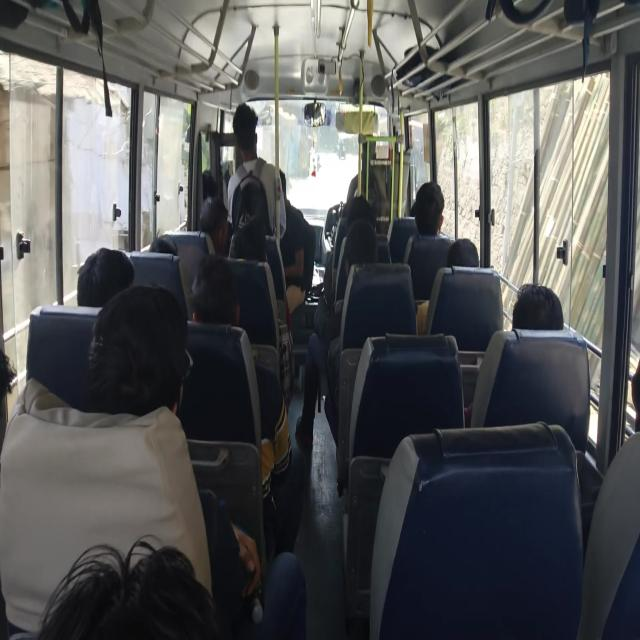person: (95, 293, 205, 441), (34, 550, 201, 640), (74, 235, 149, 326), (0, 347, 35, 512), (596, 348, 640, 442), (506, 285, 558, 355), (334, 194, 399, 249), (187, 273, 252, 325), (346, 225, 396, 281), (222, 110, 262, 176), (240, 226, 280, 292), (446, 231, 487, 281), (148, 224, 189, 268), (202, 196, 236, 249), (238, 193, 272, 240), (401, 182, 432, 228), (418, 190, 444, 244), (254, 158, 296, 190), (195, 172, 226, 208)
